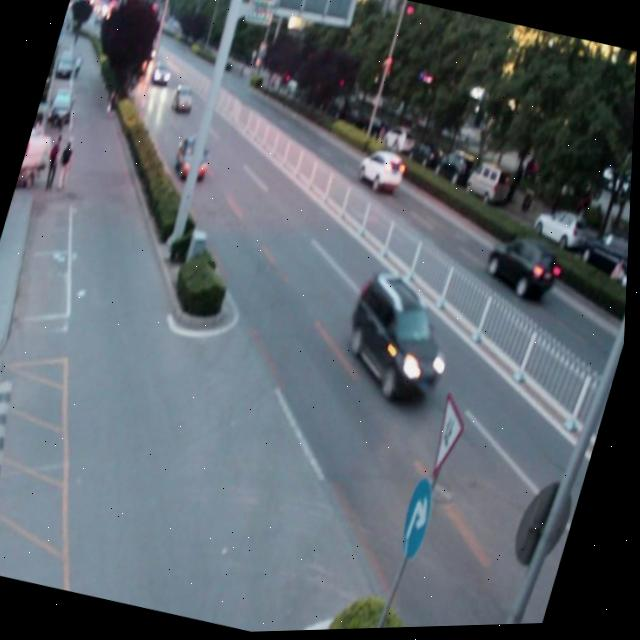car: (335, 265, 465, 413), (481, 226, 567, 308), (354, 146, 409, 197), (170, 132, 216, 184), (168, 80, 199, 117)
